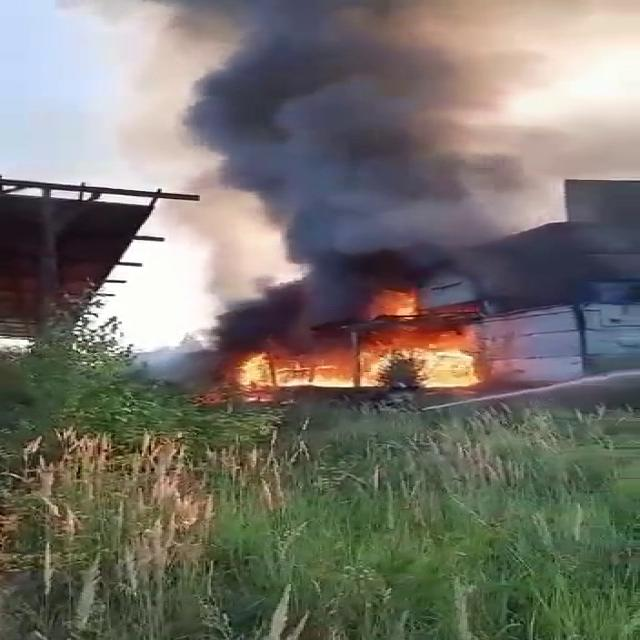Fire: (240, 330, 491, 391), (358, 284, 422, 326)
Smoke: (184, 20, 482, 256)
